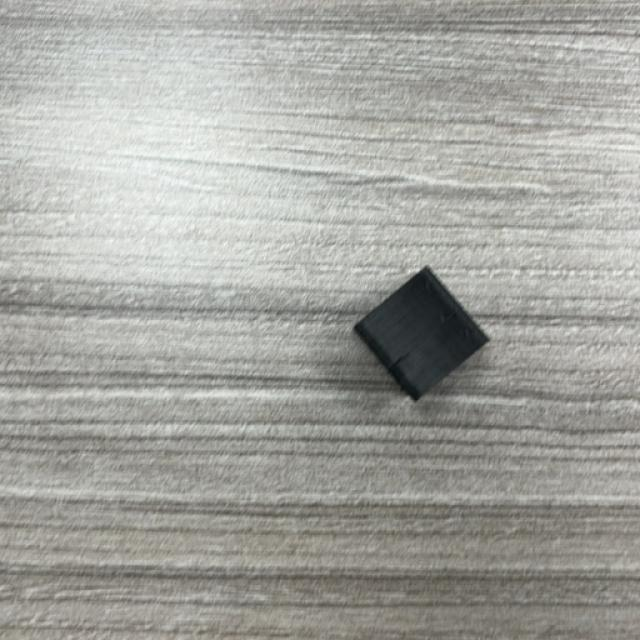Negro: (351, 268, 490, 404)
